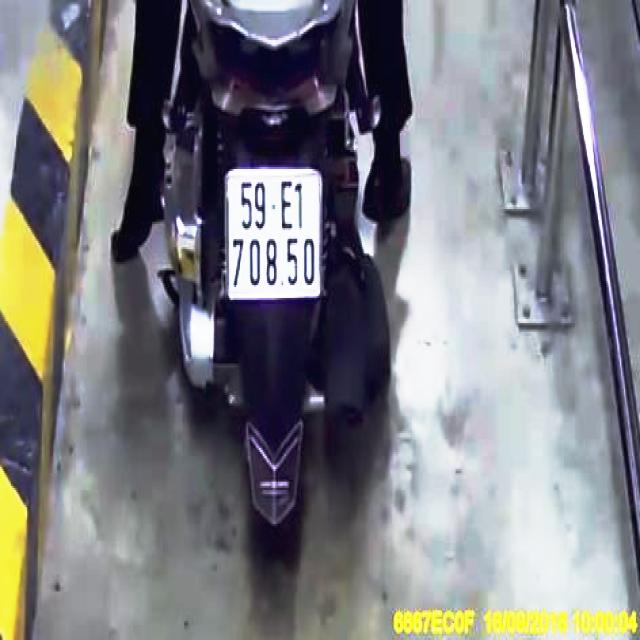license_plate: (228, 173, 323, 295)
